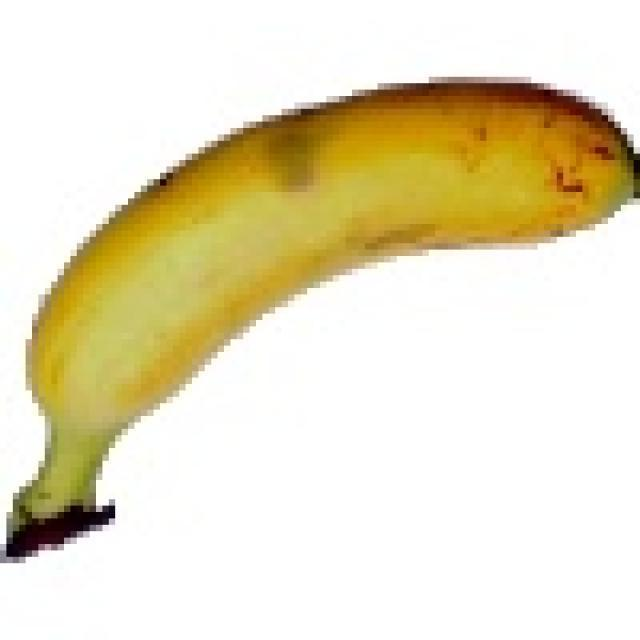Banana: (13, 70, 640, 558)
